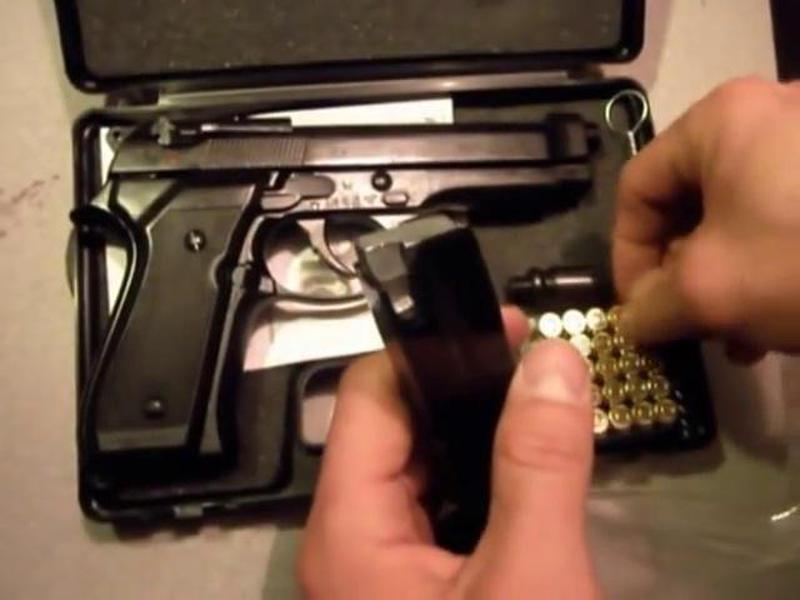Pistola: (45, 108, 631, 486)
